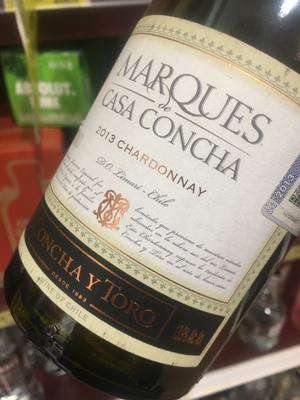marques de casa concha chardonnay: (17, 11, 300, 391)
